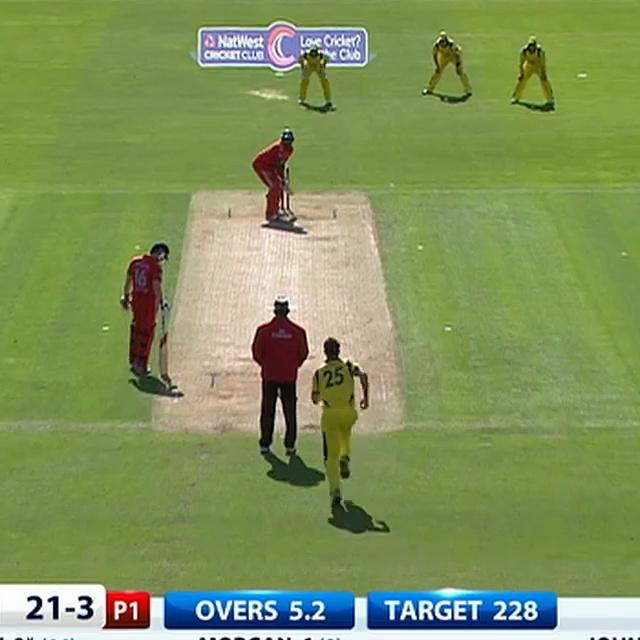umpire: (243, 288, 314, 468)
